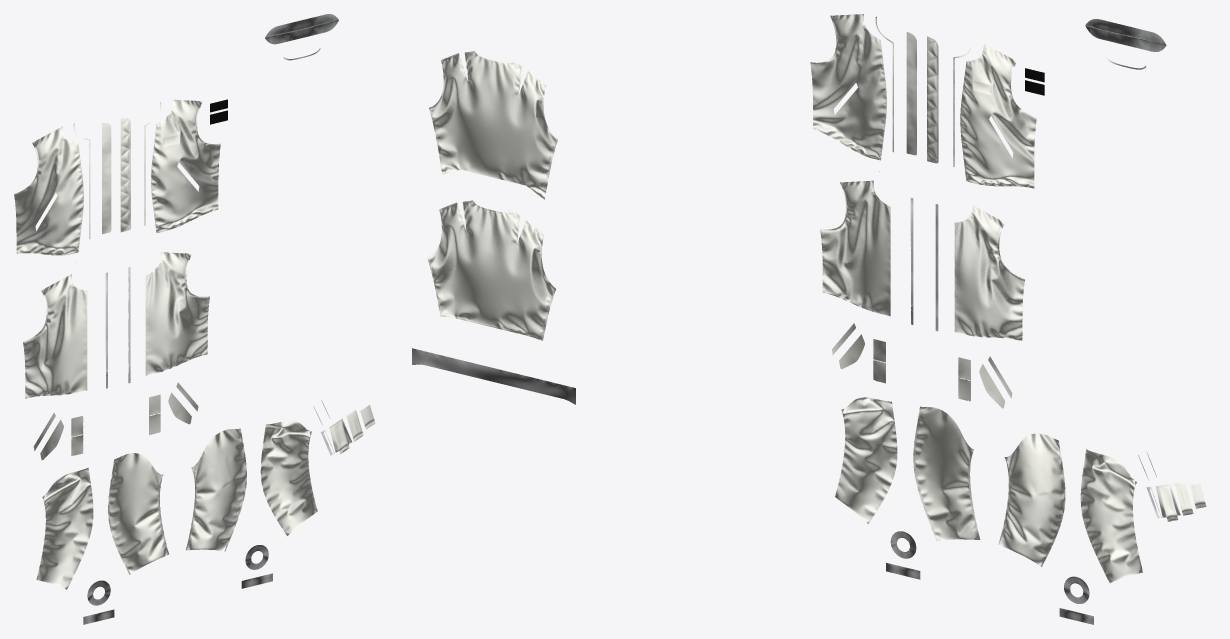
Rendered from MA-1_animation.glb.
3 renders of one model, left to right at view 1: azimuth 30°, elevation 25°; view 2: azimuth 150°, elevation 25°; view 3: azimuth 330°, elevation 25°, orthographic. The views are drawn at different scales.
Parts seen in each view (by area): view 1: main; view 2: main; view 3: main.
Boxes of the visible parts, <box> form: main: <box>14,14,375,624</box>; main: <box>412,51,575,404</box>; main: <box>810,14,1206,624</box>.
Bounding box in the file's own units: 0.5052 × 0.723 × 0.000999.
1 material, 1 textured.
